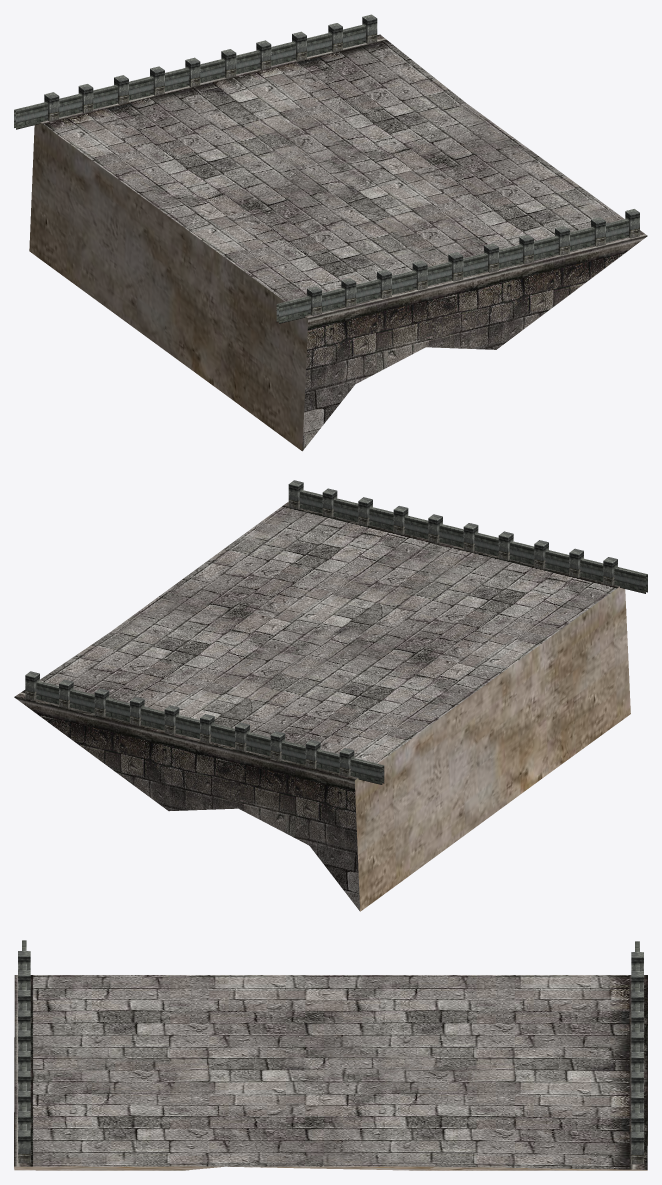
Rendered from bridge01.FBX.
3 renders of one model, top to bottom at view 1: azimuth 30°, elevation 25°; view 2: azimuth 150°, elevation 25°; view 3: azimuth 270°, elevation 25°, orthographic. The views are drawn at different scales.
Parts seen in each view (by area): view 1: bridge0113, bridge0104, bridge0101, bridge0103, bridge0108, bridge0110, bridge0106, bridge0111, bridge0112; view 2: bridge0104, bridge0113, bridge0106, bridge0108, bridge0103, bridge0110, bridge0101, bridge0111, bridge0112; view 3: bridge0104, bridge0113, bridge0103, bridge0108, bridge0111, bridge0112.
Part boxes in pixels (<box>): bridge0113: <box>217,169,647,349</box>; bridge0104: <box>41,34,465,184</box>; bridge0101: <box>217,252,425,451</box>; bridge0103: <box>127,102,556,184</box>; bridge0108: <box>126,169,555,251</box>; bridge0110: <box>126,185,225,394</box>; bridge0106: <box>29,122,127,322</box>; bridge0111: <box>14,14,377,129</box>; bridge0112: <box>276,209,639,323</box>; bridge0104: <box>14,632,444,811</box>; bridge0113: <box>200,502,619,648</box>; bridge0106: <box>239,715,456,911</box>; bridge0108: <box>200,566,534,714</box>; bridge0103: <box>110,566,443,714</box>; bridge0110: <box>445,649,554,840</box>; bridge0101: <box>535,586,630,769</box>; bridge0111: <box>25,671,384,784</box>; bridge0112: <box>288,480,647,593</box>; bridge0104: <box>426,975,647,1170</box>; bridge0113: <box>14,975,225,1170</box>; bridge0103: <box>225,975,436,1170</box>; bridge0108: <box>225,975,436,1166</box>; bridge0111: <box>631,941,643,1164</box>; bridge0112: <box>18,940,30,1163</box>.
Size of the model in its own units: 314 by 125 by 401.
Materials: 4 (4 with a texture image).
